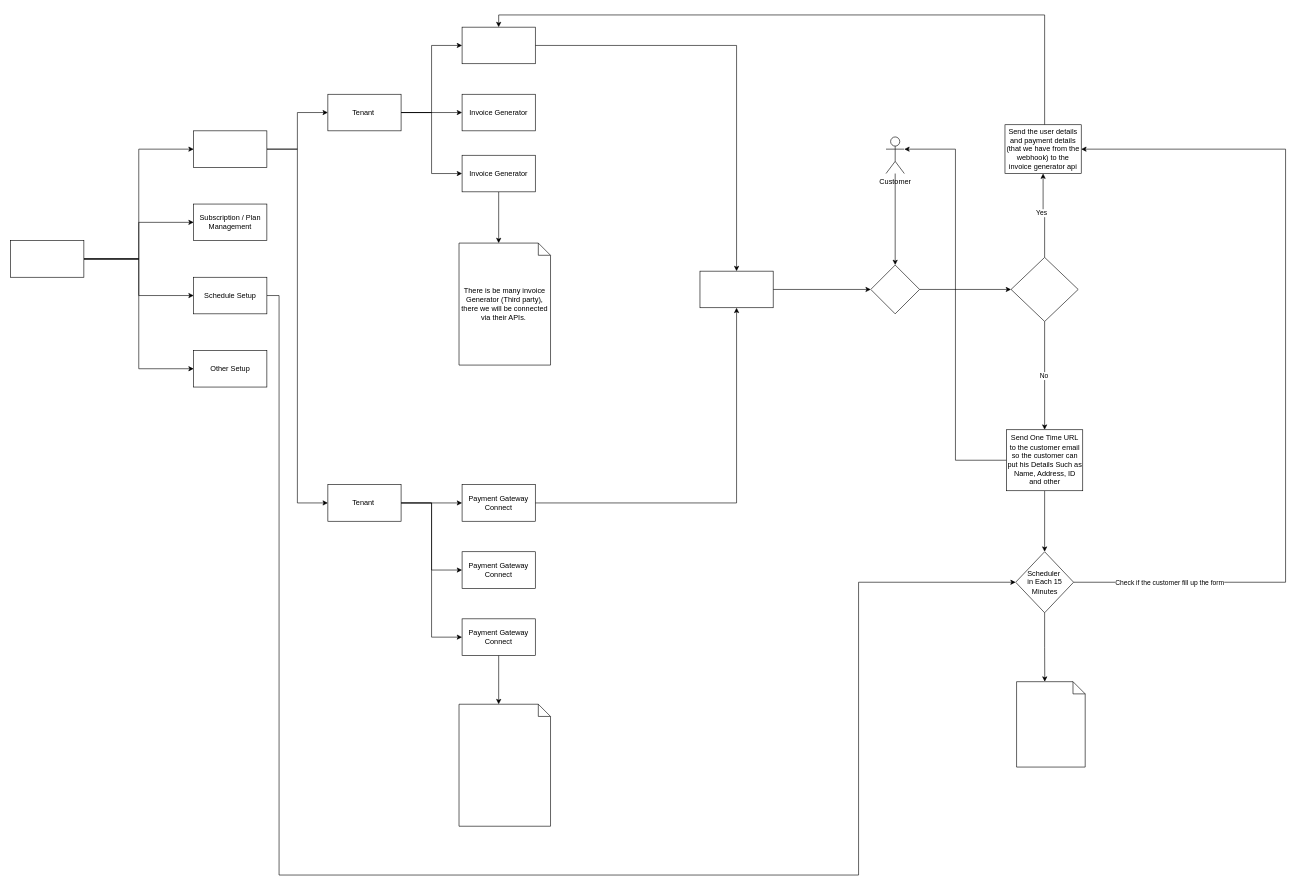
Some shapes in this 1301 by 891 pixel diagram are drawn without their labels. The shapes that lost their labels are listed below. From the top down, each one's centre as x and y in pixels, then its label:
the point at 498,45: Invoice Generator (Active)
the point at 230,148: Tenant / User Management
the point at 47,258: Admin
the point at 736,289: Tenant Store e-commerce / offline store
the point at 895,289: Payment
the point at 1044,289: Customer Exist in database
the point at 1050,724: The scheduler will check if the customer fill the form .
the point at 504,765: There will be many Payment Gateway (Currently we will focus on Stripe Only)
